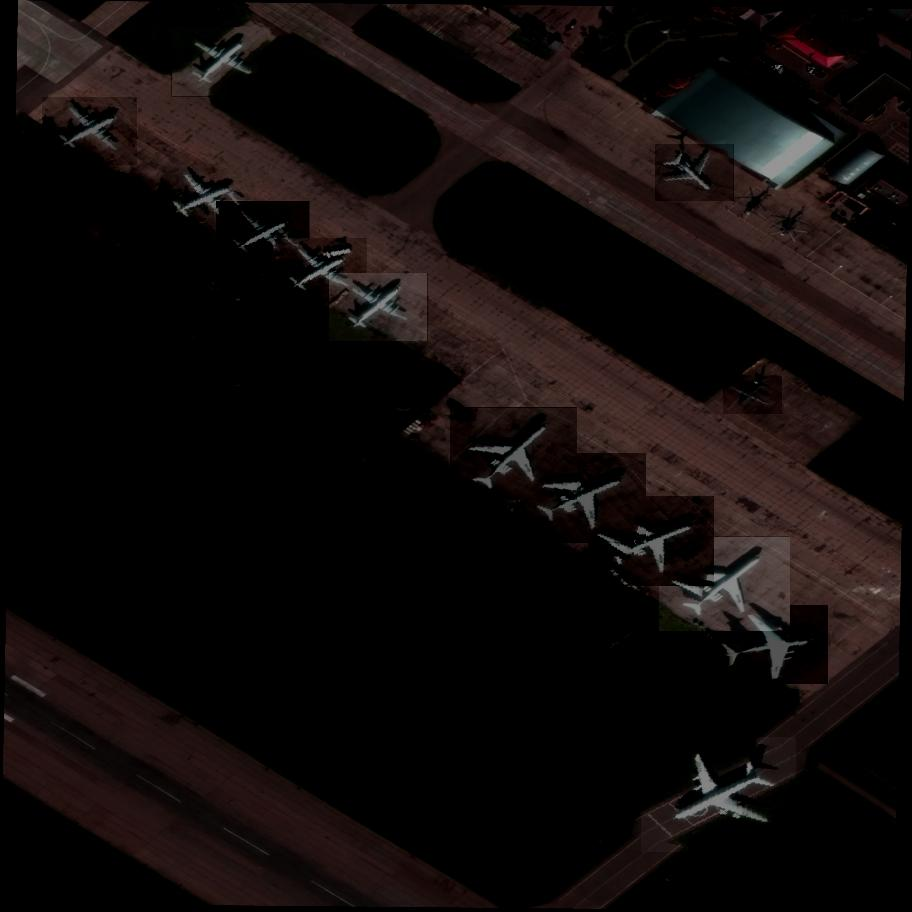plane: (642, 725, 797, 867), (659, 522, 791, 648), (450, 390, 578, 516), (521, 443, 646, 553), (588, 487, 714, 596), (713, 604, 828, 688), (42, 85, 137, 178), (158, 153, 251, 248), (172, 18, 270, 108), (330, 261, 428, 351), (217, 190, 310, 284), (273, 226, 368, 318), (655, 139, 734, 209), (723, 371, 782, 419)
small-vehicle: (772, 64, 781, 72), (807, 64, 814, 74), (810, 66, 817, 76), (766, 59, 773, 67), (769, 62, 777, 69), (776, 65, 783, 73), (813, 70, 821, 76), (792, 76, 798, 83), (780, 68, 786, 75)
